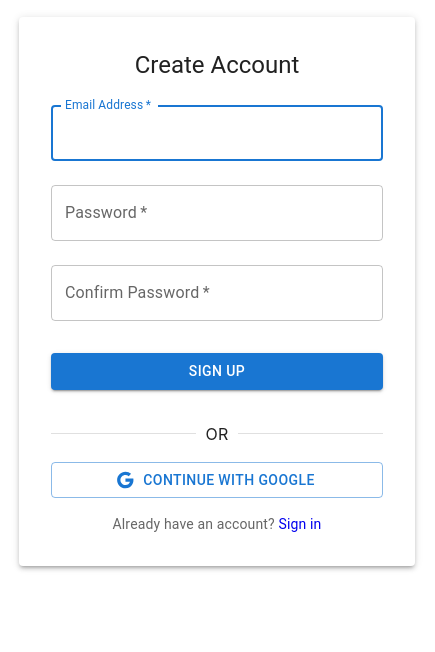
Test case: SignUp › blocks mismatched passwords with a visible error
Type "builder@example.com" into the field labelled "Email Address *" at (217, 133), box [51, 105, 383, 161]
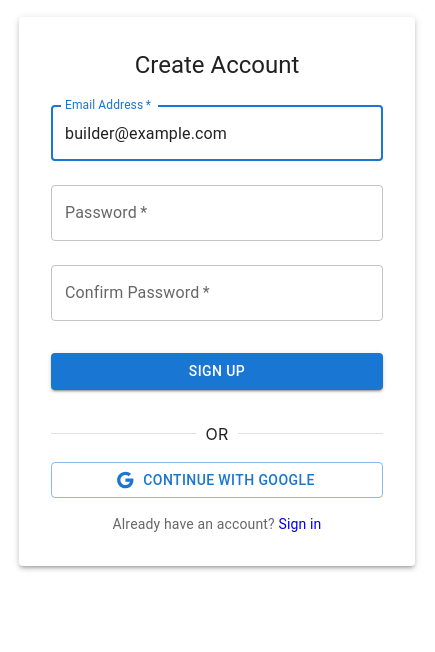
Type "first-password" into the password field named "password" at (217, 213), box [51, 185, 383, 241]
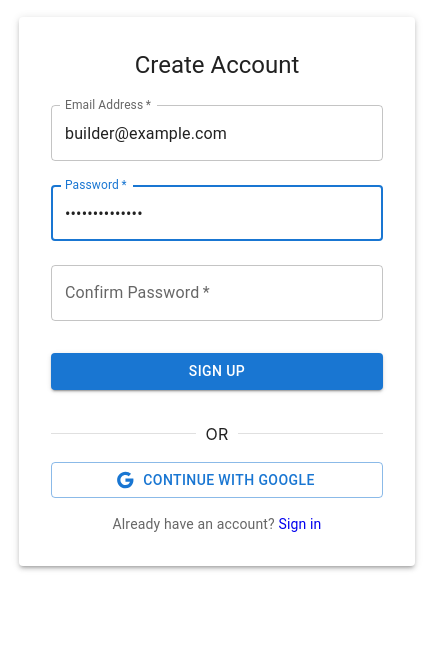
Type "second-password" into the password field labelled "Confirm Password *" at (217, 293), box [51, 265, 383, 321]
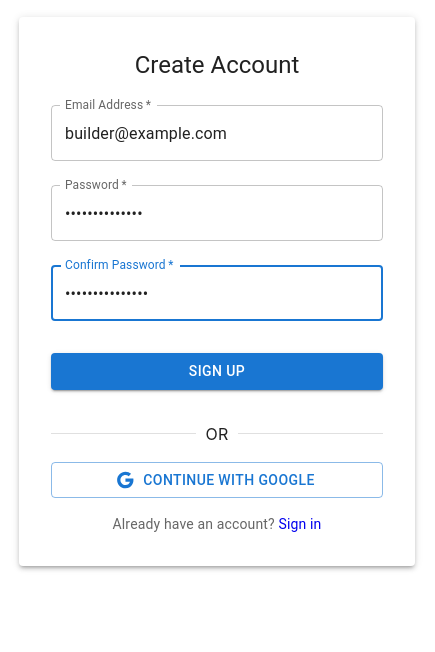
Click the button "Sign Up" at (217, 372), box [51, 353, 383, 390]
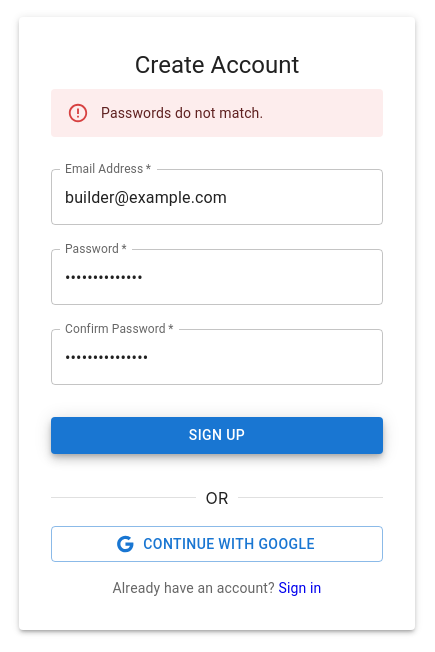
Check: the text "Passwords do not match." is shown, box [101, 105, 263, 121]
Clear the password field labelled "Confirm Password *" at (217, 357), box [51, 329, 383, 385]
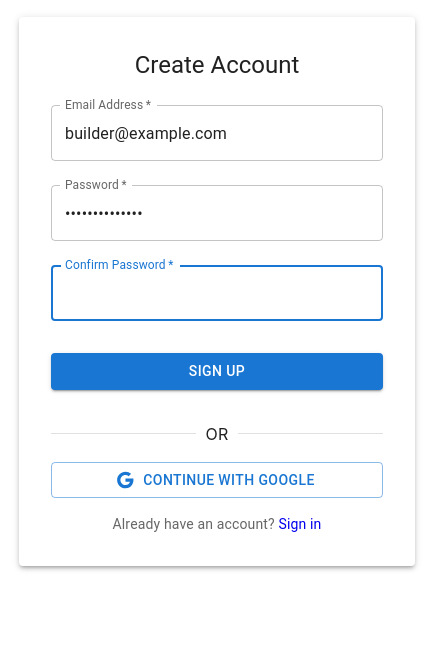
Check: the text "Passwords do not match." is gone
